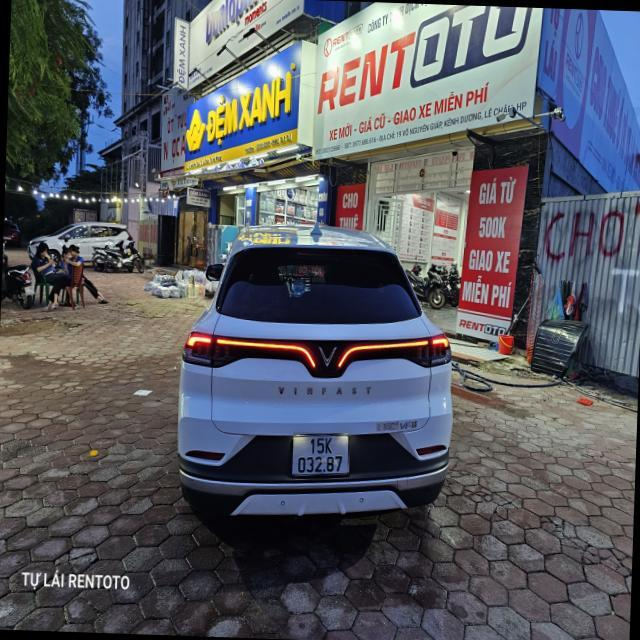car: (179, 232, 457, 546), (28, 214, 143, 276)
plate: (286, 430, 355, 481)
